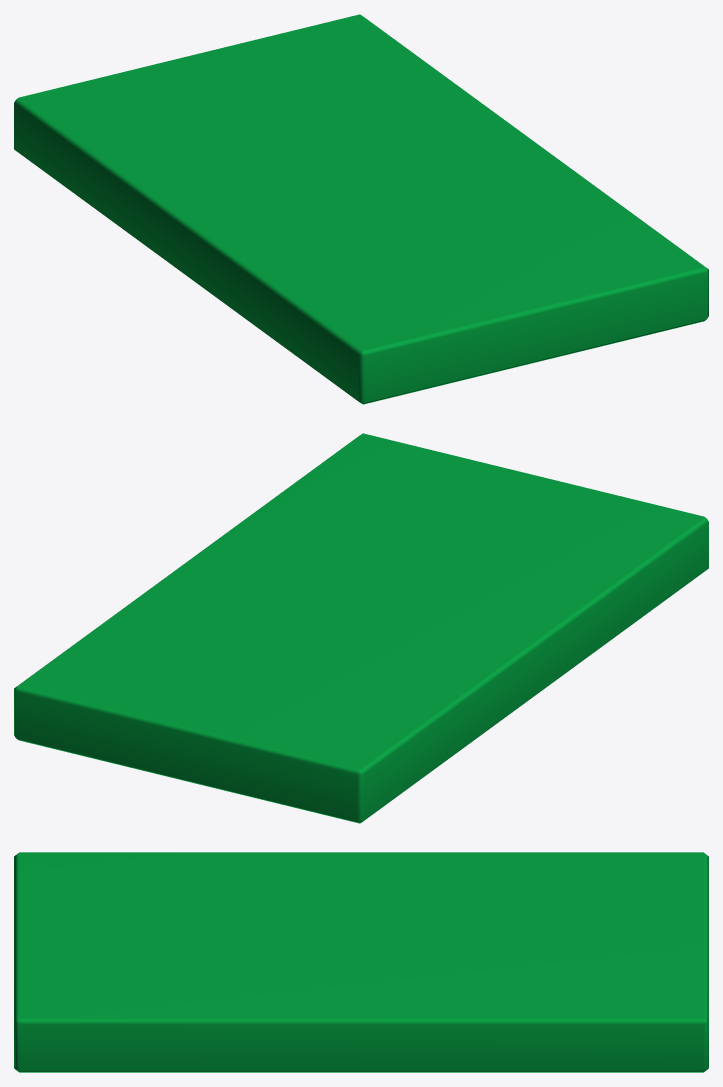
File: City_17_Base_2.glb
The picture shows the model from 3 angles, top to bottom: view 1: azimuth 30°, elevation 25°; view 2: azimuth 150°, elevation 25°; view 3: azimuth 270°, elevation 25°; orthographic projection.
Visible parts, largest first — view 1: City_17_Base_2; view 2: City_17_Base_2; view 3: City_17_Base_2.
Boxes of the visible parts, bbox=[...] form: City_17_Base_2: bbox=[14, 14, 708, 404]; City_17_Base_2: bbox=[14, 433, 708, 823]; City_17_Base_2: bbox=[14, 852, 708, 1072].
Bounding box in the file's own units: 4.21 × 0.6294 × 7.28.
Materials: 1 (1 with a texture image).
